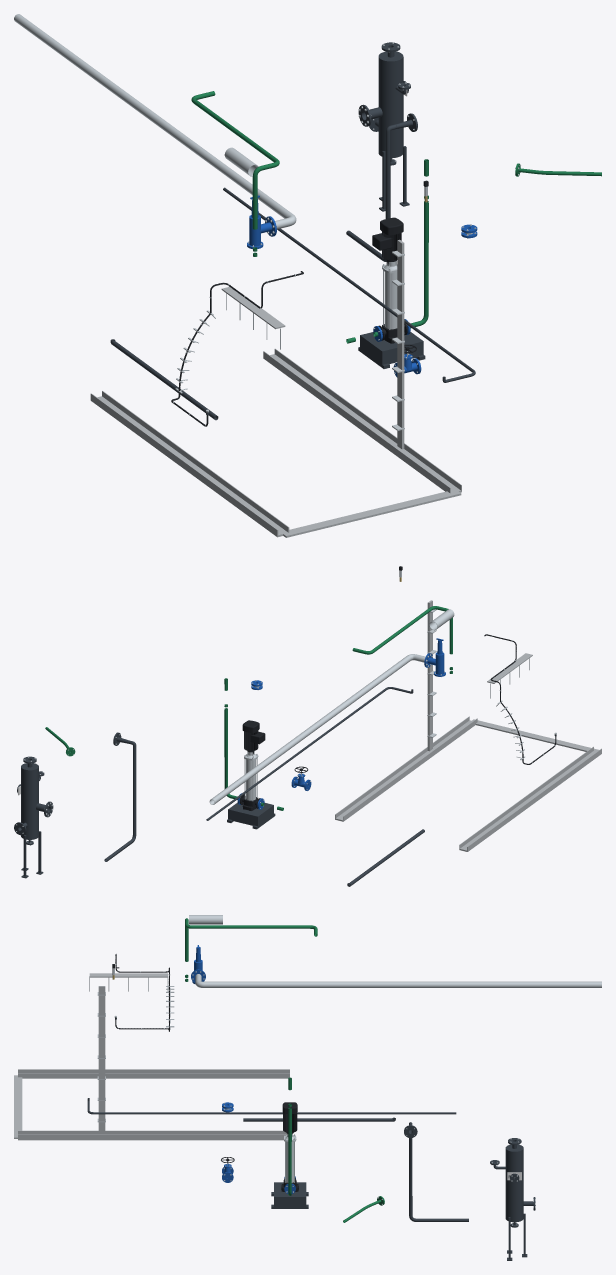
3 renders of one model, top to bottom at view 1: azimuth 30°, elevation 25°; view 2: azimuth 150°, elevation 25°; view 3: azimuth 270°, elevation 25°, orthographic. The views are drawn at different scales.
Parts seen in each view (by area): view 1: cables / zinc, separator_fv8 / dark, safety_vent_2 / steel, pump_branch_2 / dark, direct_inlet / green, tds_common / dark, bottom_to_bdv / dark, pump_2 CAD solid 15, pump_branch_2 / green, cables / steel, bottom_piping / dark; view 2: cables / zinc, separator_fv8 / dark, safety_vent_2 / steel, pump_branch_2 / dark, tds_common / dark, bottom_to_bdv / dark, direct_inlet / green, pump_2 CAD solid 15, pump_branch_2 / green, safety_2 / blue; view 3: cables / zinc, safety_vent_2 / steel, separator_fv8 / dark, tds_common / dark, pump_branch_2 / dark, bottom_to_bdv / dark, direct_inlet / green, bottom_piping / dark.
Part boxes in pixels (x1,y1,x2,y2): cables / zinc: [90, 239, 461, 537]; separator_fv8 / dark: [358, 42, 410, 211]; safety_vent_2 / steel: [14, 14, 296, 229]; pump_branch_2 / dark: [358, 332, 425, 368]; direct_inlet / green: [191, 91, 279, 229]; tds_common / dark: [223, 187, 475, 382]; bottom_to_bdv / dark: [346, 113, 417, 261]; pump_2 CAD solid 15: [372, 217, 403, 260]; pump_branch_2 / green: [346, 159, 428, 343]; cables / steel: [175, 250, 404, 430]; bottom_piping / dark: [110, 339, 218, 420]; cables / zinc: [335, 600, 601, 851]; separator_fv8 / dark: [14, 756, 53, 878]; safety_vent_2 / steel: [209, 654, 425, 804]; pump_branch_2 / dark: [227, 802, 275, 829]; tds_common / dark: [206, 687, 413, 820]; bottom_to_bdv / dark: [104, 732, 136, 861]; direct_inlet / green: [352, 606, 452, 654]; pump_2 CAD solid 15: [242, 720, 265, 751]; pump_branch_2 / green: [224, 678, 283, 810]; safety_2 / blue: [424, 638, 445, 676]; cables / zinc: [14, 973, 289, 1140]; safety_vent_2 / steel: [195, 974, 601, 987]; separator_fv8 / dark: [490, 1138, 535, 1260]; tds_common / dark: [87, 1098, 456, 1114]; pump_branch_2 / dark: [271, 1182, 308, 1208]; bottom_to_bdv / dark: [404, 1122, 468, 1221]; direct_inlet / green: [185, 918, 317, 961]; bottom_piping / dark: [243, 1117, 395, 1121].
Bounding box in the file's own units: 5.6 × 2.82 × 7.07.
